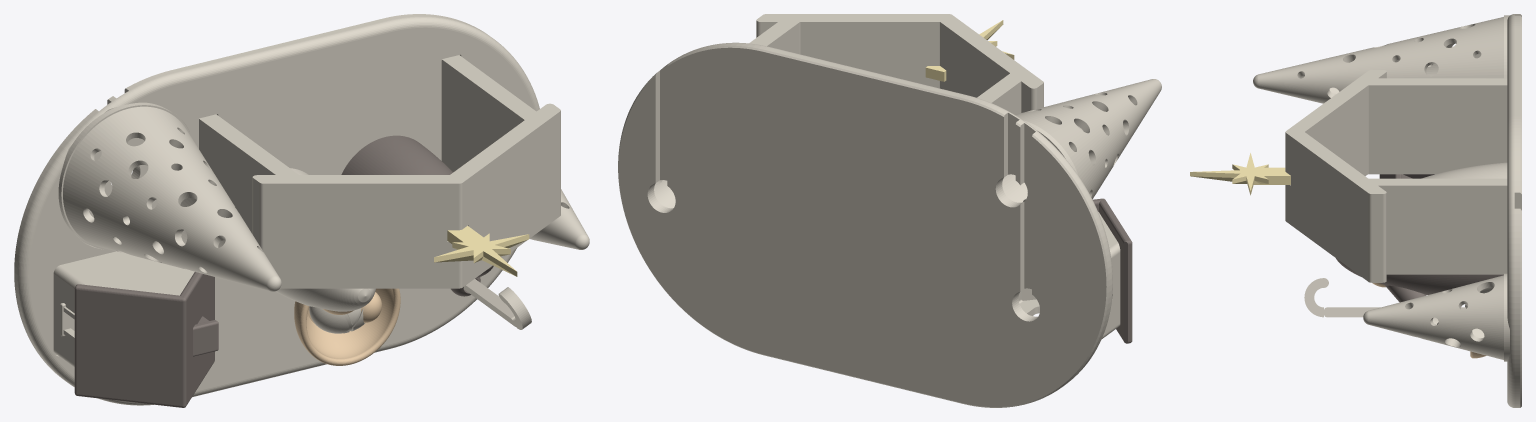
File: belen_2_establo.glb
3 views of the same model, side by side, from view 1: azimuth 30°, elevation 25°; view 2: azimuth 150°, elevation 25°; view 3: azimuth 270°, elevation 25° (orthographic). The views are drawn at different scales.
Visible parts, largest first — view 1: base_belen_2_establo_0, establo_1, arbol_grande_3, casa_pequena_tejado_6, casa_pequena_cuerpo_5, pesebre_cuenco_9, jose_cuerpo_12, estrella_establo_2, maria_cuerpo_7, arbol_pequeno_4, jose_baston_14, nino_cuerpo_10; view 2: base_belen_2_establo_0, establo_1, arbol_grande_3, casa_pequena_tejado_6, casa_pequena_cuerpo_5, estrella_establo_2; view 3: establo_1, arbol_grande_3, arbol_pequeno_4, base_belen_2_establo_0, jose_cuerpo_12, estrella_establo_2, jose_baston_14, maria_cuerpo_7.
Part boxes in pixels (bbox=[...]): base_belen_2_establo_0: bbox=[14, 14, 539, 405]; establo_1: bbox=[199, 55, 560, 288]; arbol_grande_3: bbox=[58, 102, 281, 291]; casa_pequena_tejado_6: bbox=[74, 272, 218, 407]; casa_pequena_cuerpo_5: bbox=[53, 251, 194, 367]; pesebre_cuenco_9: bbox=[294, 288, 400, 365]; jose_cuerpo_12: bbox=[341, 135, 493, 296]; estrella_establo_2: bbox=[434, 225, 529, 276]; maria_cuerpo_7: bbox=[275, 168, 375, 311]; arbol_pequeno_4: bbox=[529, 189, 589, 249]; jose_baston_14: bbox=[463, 279, 531, 329]; nino_cuerpo_10: bbox=[309, 306, 365, 333]; base_belen_2_establo_0: bbox=[618, 42, 1112, 407]; establo_1: bbox=[749, 14, 1043, 114]; arbol_grande_3: bbox=[1002, 79, 1161, 202]; casa_pequena_tejado_6: bbox=[1093, 198, 1132, 343]; casa_pequena_cuerpo_5: bbox=[1018, 212, 1120, 338]; estrella_establo_2: bbox=[925, 20, 1014, 81]; establo_1: bbox=[1285, 70, 1507, 282]; arbol_grande_3: bbox=[1253, 15, 1509, 103]; arbol_pequeno_4: bbox=[1363, 273, 1509, 361]; base_belen_2_establo_0: bbox=[1507, 14, 1521, 407]; jose_cuerpo_12: bbox=[1336, 258, 1503, 302]; estrella_establo_2: bbox=[1190, 153, 1290, 195]; jose_baston_14: bbox=[1304, 278, 1466, 317]; maria_cuerpo_7: bbox=[1421, 162, 1507, 178].
Bounding box in the file's own units: 210 × 125 × 136.
